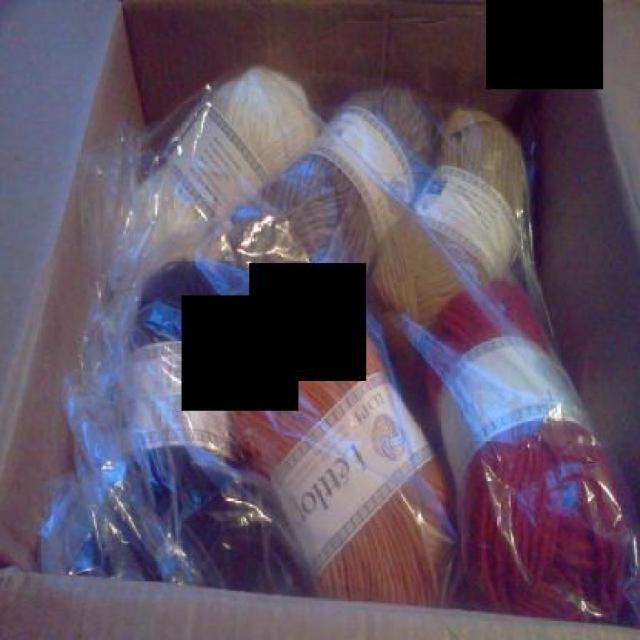plastic bag: (40, 4, 594, 616)
